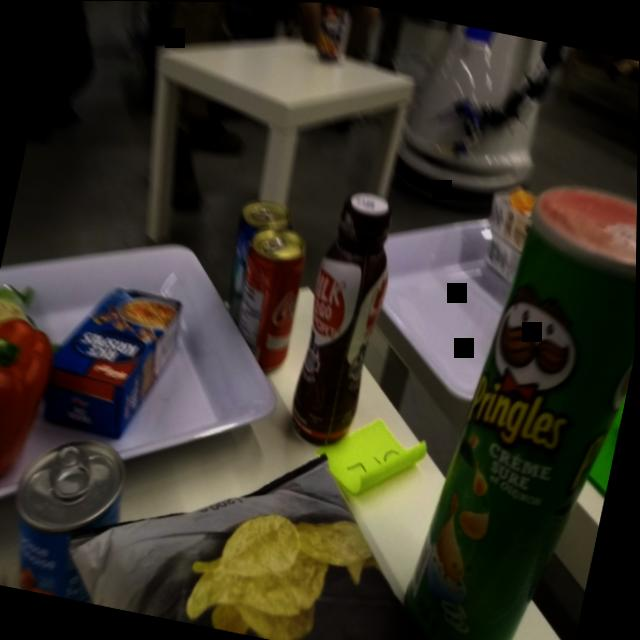cereal: (34, 269, 193, 453)
chocolate_drink: (282, 181, 408, 457)
coke: (224, 219, 315, 381)
pringles: (392, 163, 638, 640)
